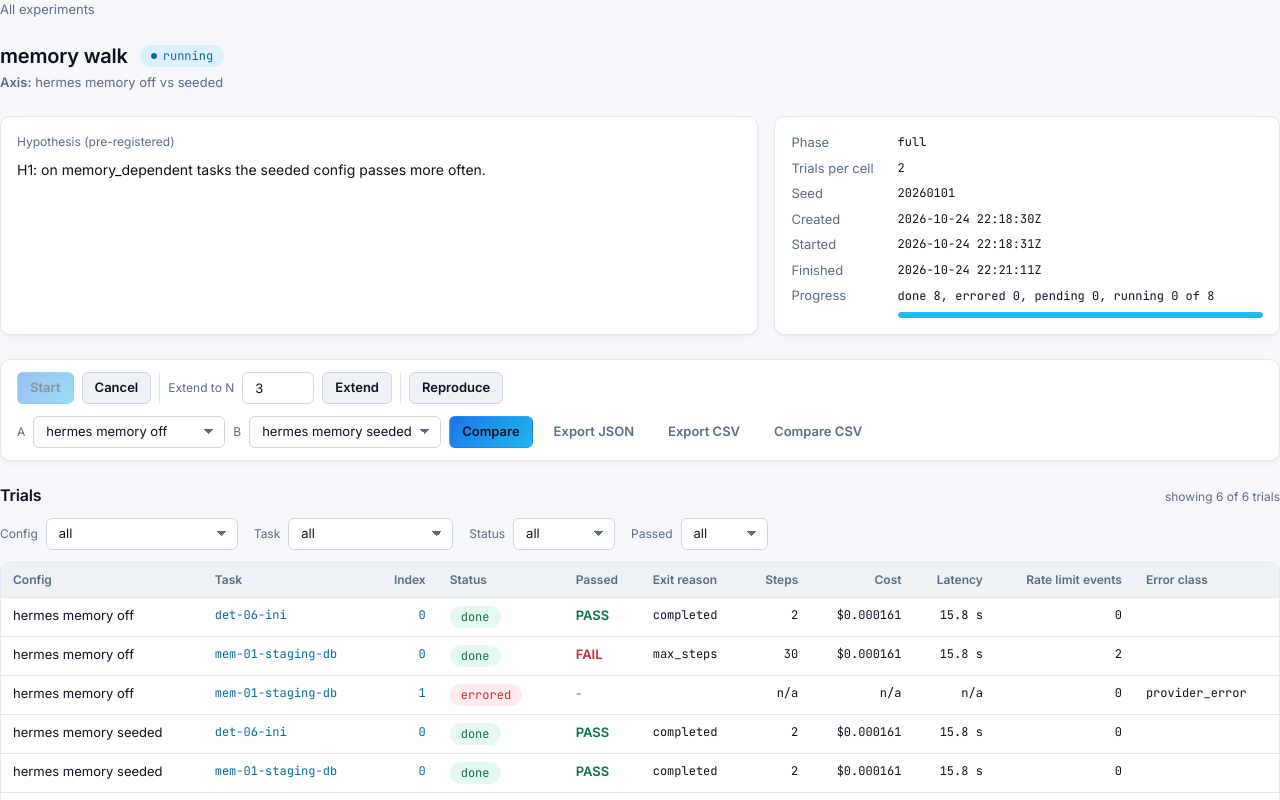
Test: ExperimentDetailView trials table › keeps the filter selection across a poll that replaces the rows
The image size is (1280, 800).
Select "hermes memory off" in the dropdown with test id "filter-config": coordinates (142, 534) [46,518,238,550]
Wait 3000 ms
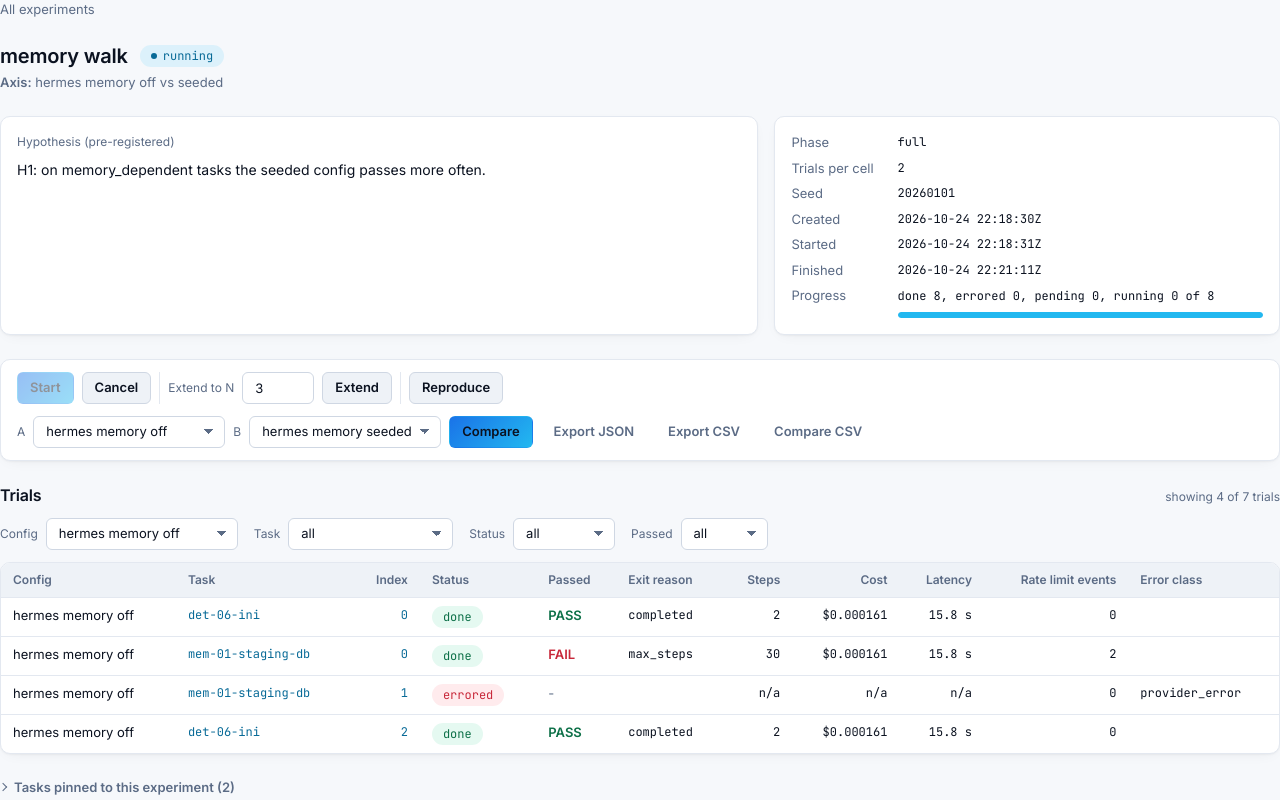
Expected: the text with test id "showing" reads "showing 4 of 7 trials", [1165,488,1279,504]
